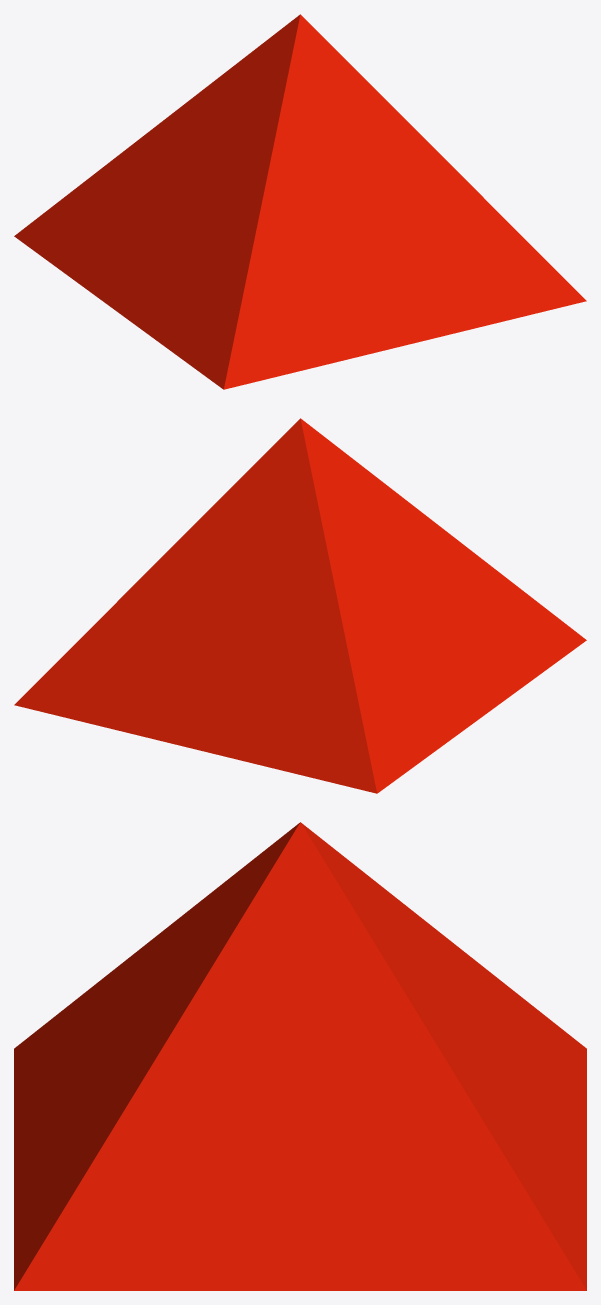
File: barricade.fbx
The picture shows the model from 3 angles, top to bottom: view 1: azimuth 30°, elevation 25°; view 2: azimuth 150°, elevation 25°; view 3: azimuth 270°, elevation 25°; orthographic projection. The views are drawn at different scales.
Parts seen in each view (by area): view 1: Cube; view 2: Cube; view 3: Cube.
Part boxes in pixels (x1,y1,x2,y2): Cube: (14, 14, 586, 389); Cube: (14, 418, 586, 793); Cube: (14, 822, 586, 1290).
Bounding box in the file's own units: 200 × 134 × 200.
